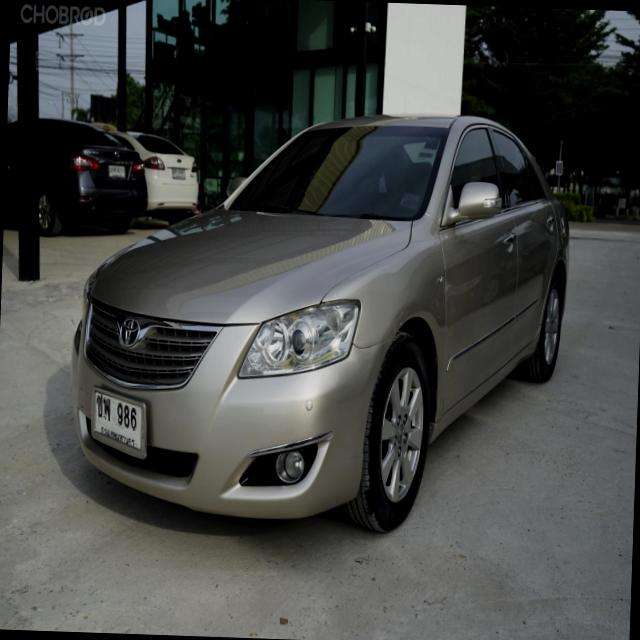license_plate: (83, 380, 154, 464)
